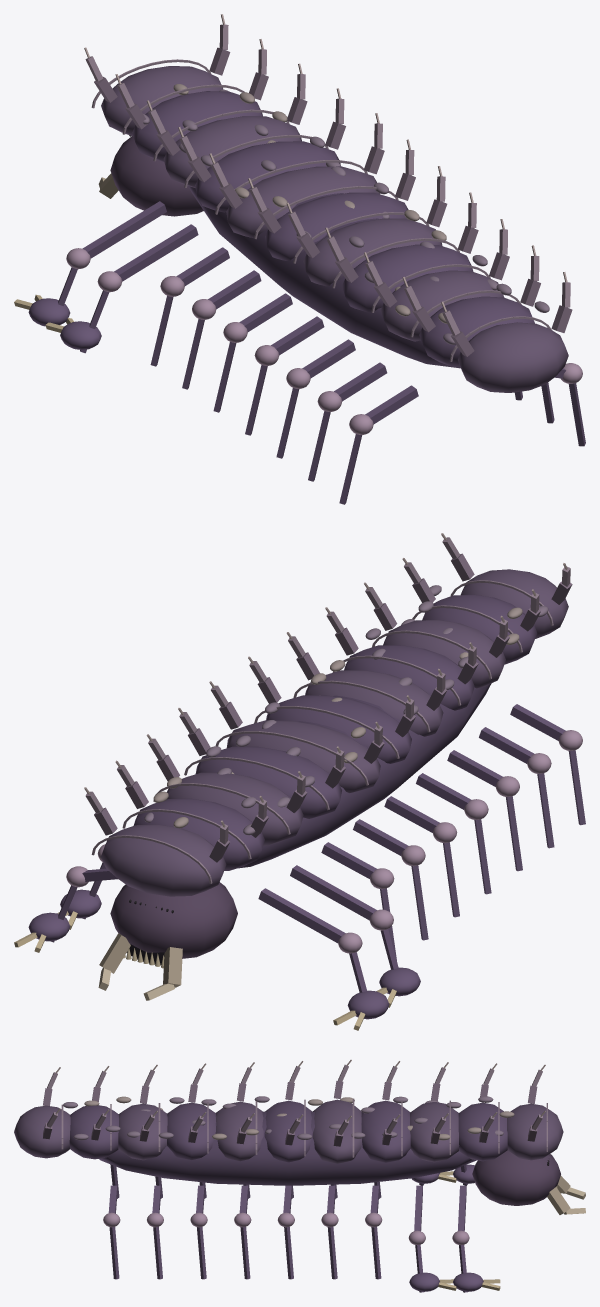
File: chasmfiend.glb
3 views of the same model, one above another, from view 1: azimuth 30°, elevation 25°; view 2: azimuth 150°, elevation 25°; view 3: azimuth 270°, elevation 25° (orthographic). The views are drawn at different scales.
Parts seen in each view (by area): view 1: carapace_stone, leg_1_-1_stone, leg_0_-1_stone, leg_6_-1_stone, leg_4_-1_stone, leg_8_-1_stone, leg_2_-1_stone, leg_3_-1_stone, leg_7_-1_stone, leg_5_-1_stone, leg_8_1_stone; view 2: carapace_stone, leg_0_-1_stone, leg_1_-1_stone, leg_0_1_stone, leg_5_-1_stone, leg_3_-1_stone, leg_7_-1_stone, leg_8_-1_stone, leg_6_-1_stone, leg_4_-1_stone, leg_2_-1_stone, leg_1_1_stone; view 3: carapace_stone, leg_0_1_stone, leg_1_1_stone, leg_5_1_stone, leg_8_1_stone, leg_2_1_stone, leg_3_1_stone, leg_6_1_stone, leg_4_1_stone, leg_7_1_stone, leg_1_-1_stone, leg_0_-1_stone.
Part boxes in pixels (x1,y1,x2,y2): carapace_stone: (84, 14, 572, 392); leg_1_-1_stone: (45, 224, 198, 353); leg_0_-1_stone: (14, 201, 166, 326); leg_6_-1_stone: (276, 339, 355, 458); leg_4_-1_stone: (213, 293, 292, 412); leg_8_-1_stone: (339, 385, 418, 504); leg_2_-1_stone: (150, 247, 229, 366); leg_3_-1_stone: (182, 270, 261, 389); leg_7_-1_stone: (308, 362, 387, 481); leg_5_-1_stone: (245, 316, 324, 435); leg_8_1_stone: (555, 363, 585, 446); carapace_stone: (84, 533, 572, 1000); leg_0_-1_stone: (258, 888, 389, 1030); leg_1_-1_stone: (290, 865, 420, 1007); leg_0_1_stone: (14, 866, 117, 952); leg_5_-1_stone: (416, 773, 491, 894); leg_3_-1_stone: (353, 819, 428, 940); leg_7_-1_stone: (479, 727, 554, 848); leg_8_-1_stone: (510, 704, 585, 825); leg_6_-1_stone: (447, 750, 522, 871); leg_4_-1_stone: (384, 796, 459, 917); leg_2_-1_stone: (321, 842, 396, 960); leg_1_1_stone: (57, 844, 105, 929); carapace_stone: (14, 1059, 585, 1214); leg_0_1_stone: (452, 1185, 500, 1292); leg_1_1_stone: (408, 1185, 456, 1292); leg_5_1_stone: (234, 1185, 251, 1279); leg_8_1_stone: (103, 1185, 120, 1279); leg_2_1_stone: (365, 1185, 382, 1279); leg_3_1_stone: (321, 1185, 338, 1279); leg_6_1_stone: (190, 1185, 207, 1279); leg_4_1_stone: (277, 1185, 294, 1279); leg_7_1_stone: (147, 1185, 163, 1279); leg_1_-1_stone: (411, 1171, 456, 1185); leg_0_-1_stone: (453, 1164, 474, 1185).
Bounding box in the file's own units: 14.05 × 8.26 × 28.31.
